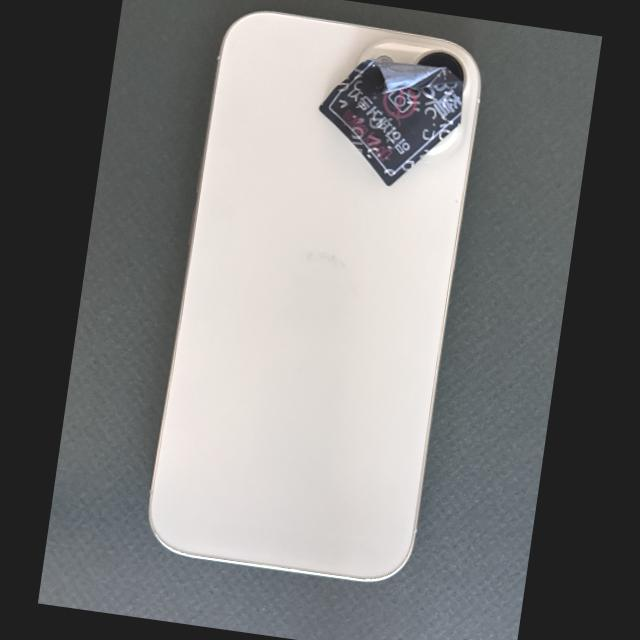lens: (413, 50, 466, 92)
phone: (148, 10, 482, 583)
sticker: (318, 60, 463, 187)
